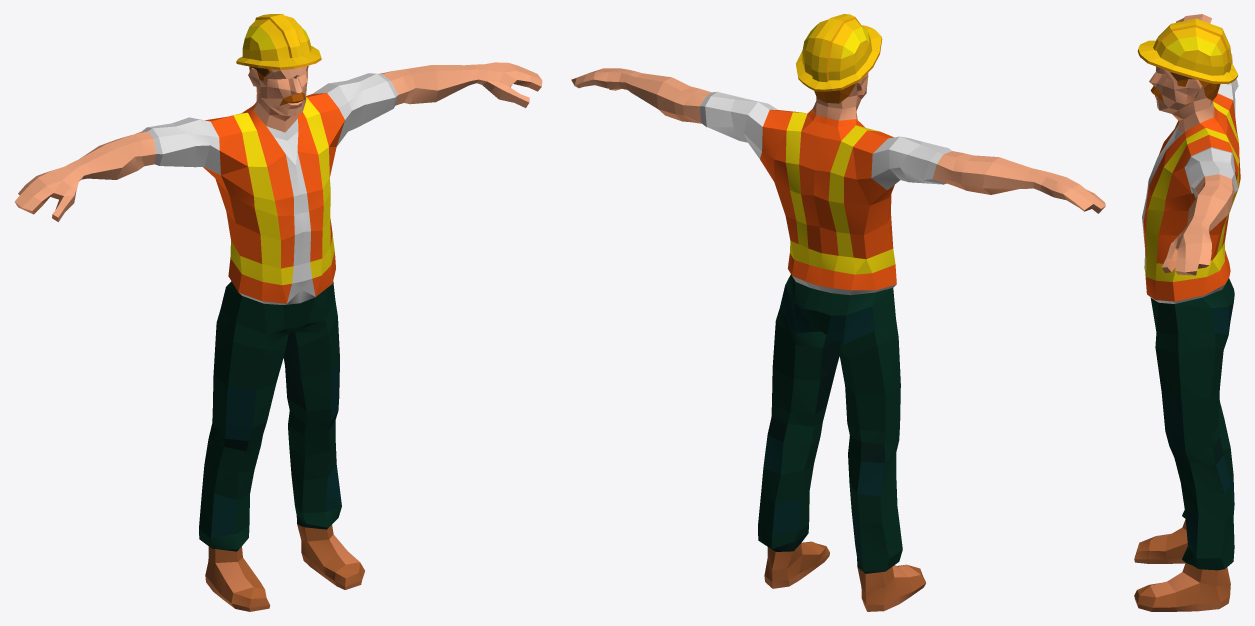
Rendered from worker_Male_constructor_D-model.obj.
3 views of the same model, side by side, from view 1: azimuth 30°, elevation 25°; view 2: azimuth 150°, elevation 25°; view 3: azimuth 270°, elevation 25° (orthographic).
Parts seen in each view (by area): view 1: worker_Male_constructor_D; view 2: worker_Male_constructor_D; view 3: worker_Male_constructor_D.
Part boxes in pixels (left/top/right/bottom): worker_Male_constructor_D: left=14, top=14, right=542, bottom=611; worker_Male_constructor_D: left=571, top=14, right=1105, bottom=611; worker_Male_constructor_D: left=1134, top=14, right=1240, bottom=611.
Bounding box in the file's own units: 175 × 180 × 30.98.
